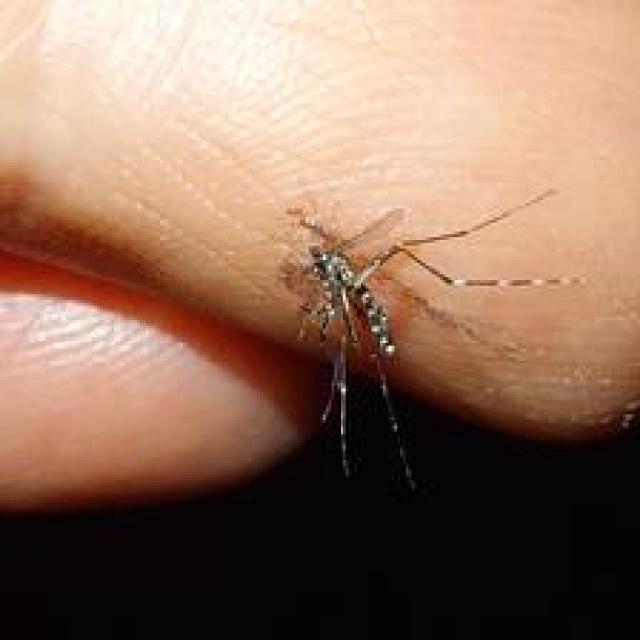Aedes albopictus: (276, 184, 587, 493)
